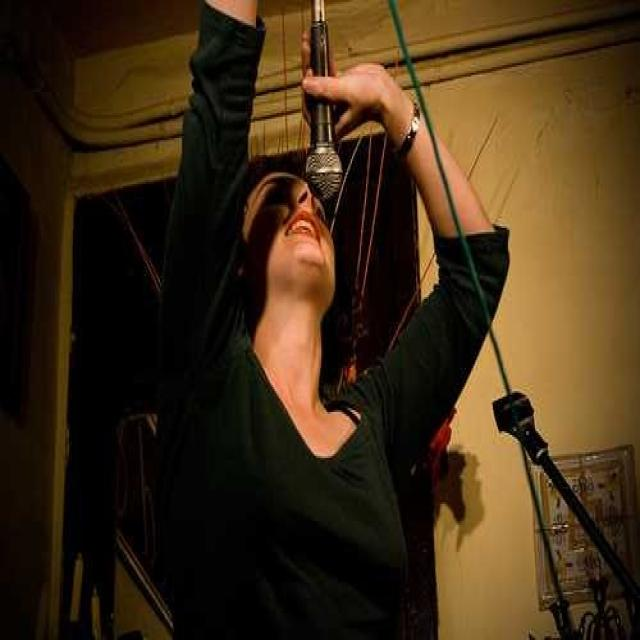microphone: (302, 0, 345, 212)
